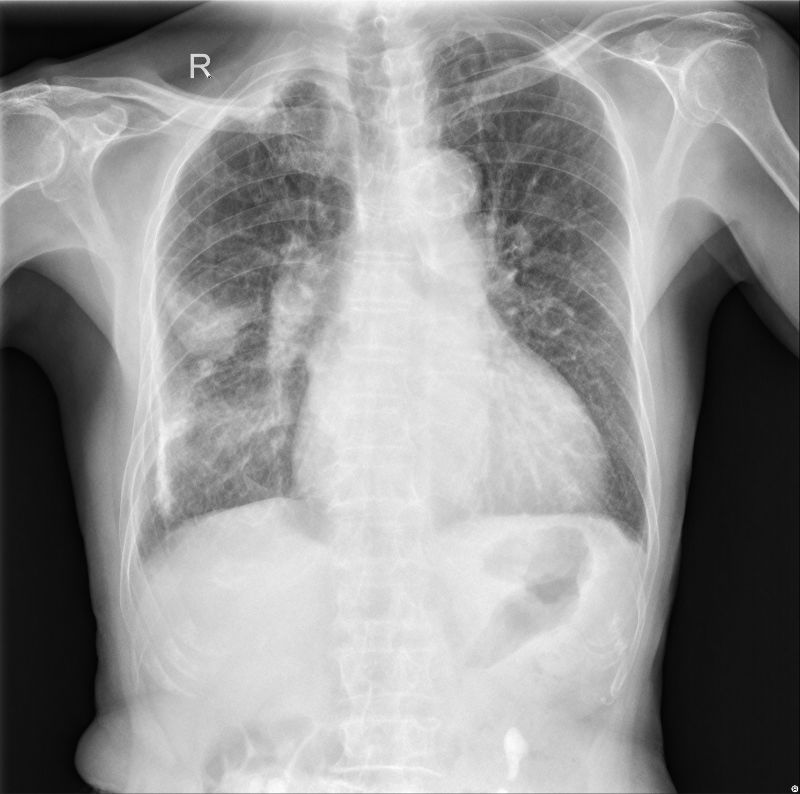Tuberculosis (TB): (152, 277, 265, 420)
